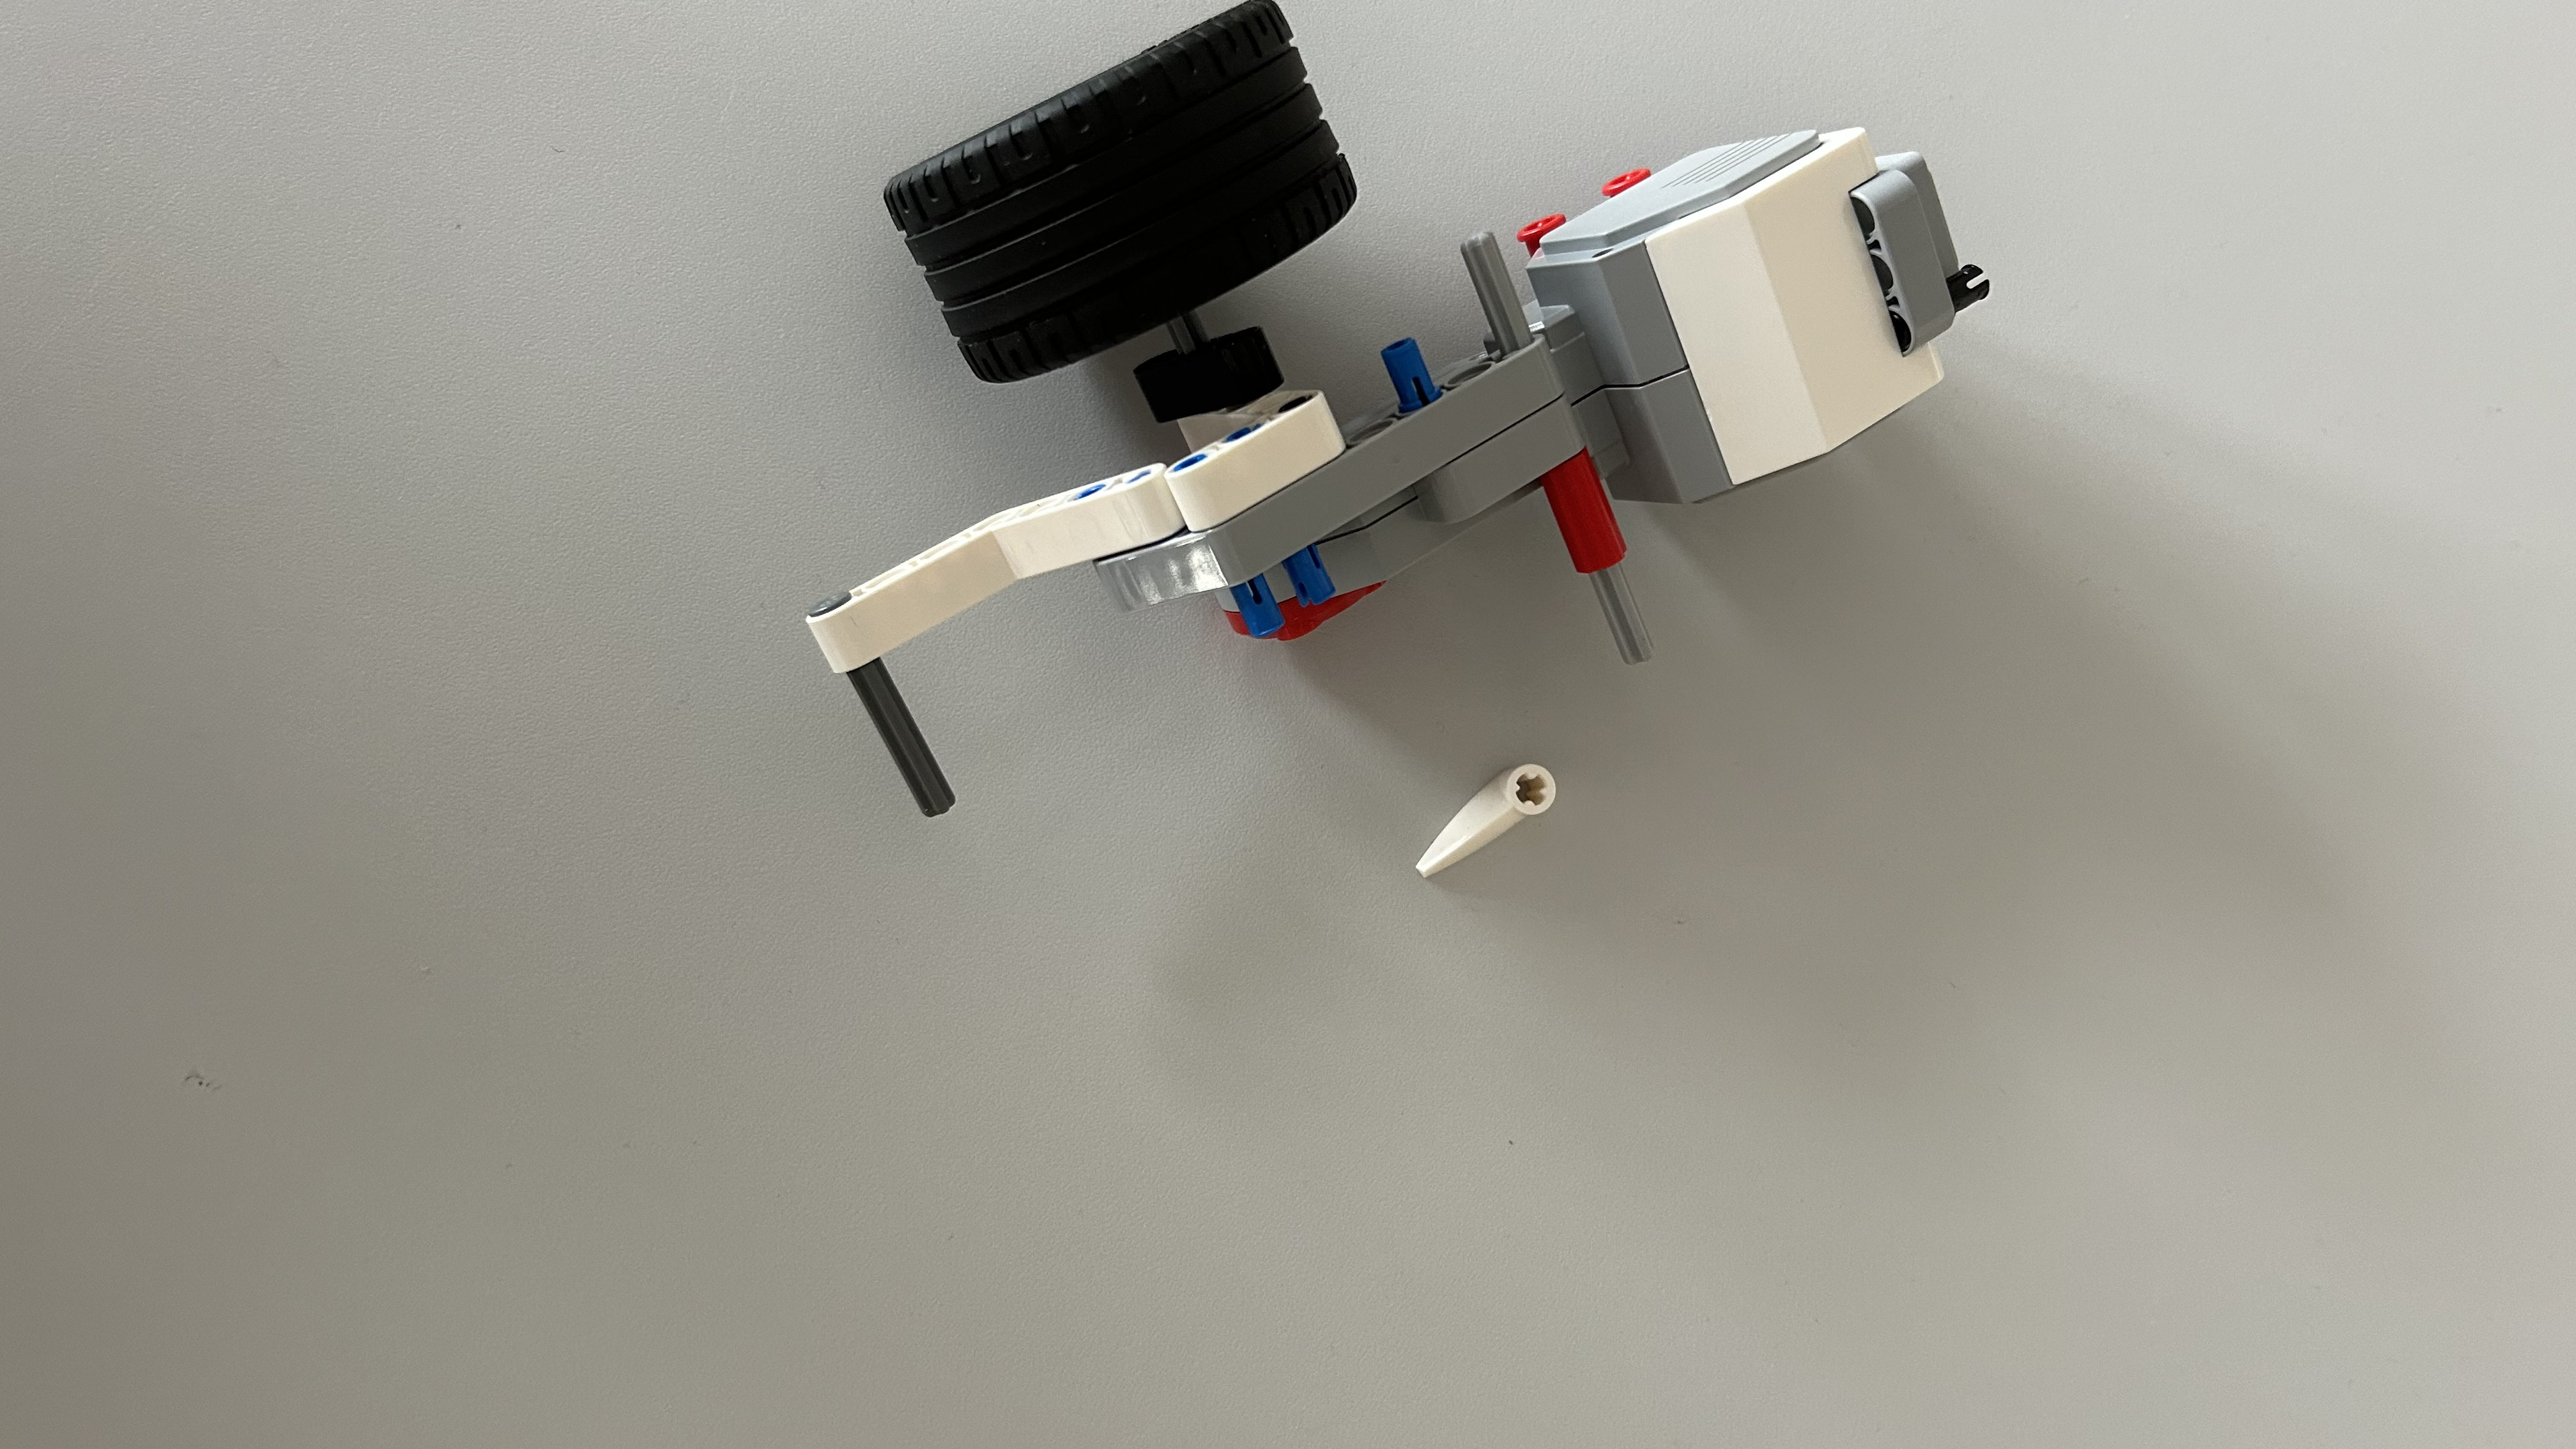white3: (1408, 757, 1566, 893)
